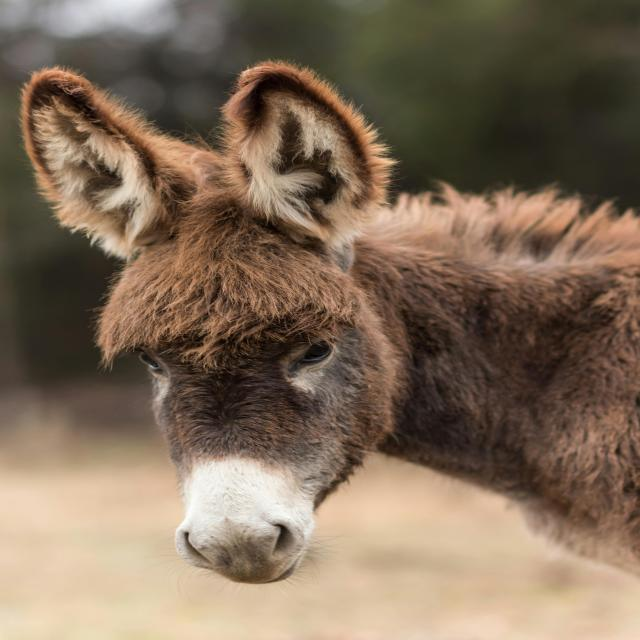Donkey: (17, 64, 640, 582)
